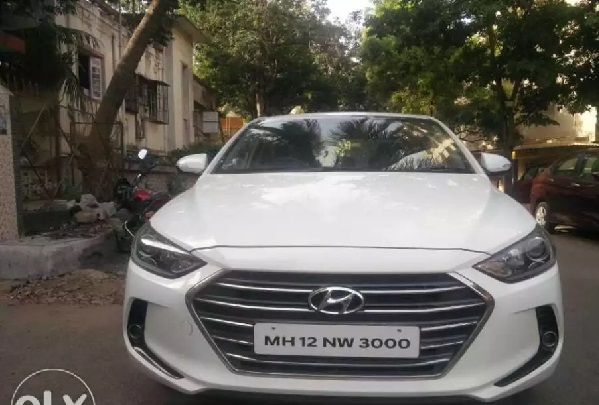licenseplate: (253, 318, 421, 359)
